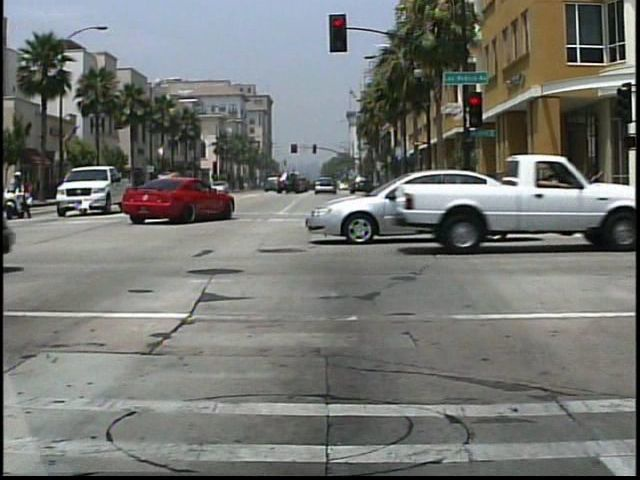person: (4, 169, 36, 222)
